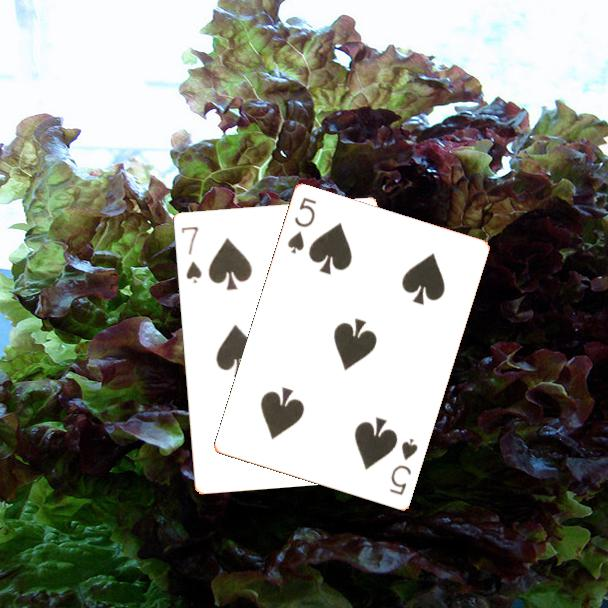s05: (386, 435, 421, 499), (284, 194, 319, 257)
s07: (178, 223, 204, 286)
